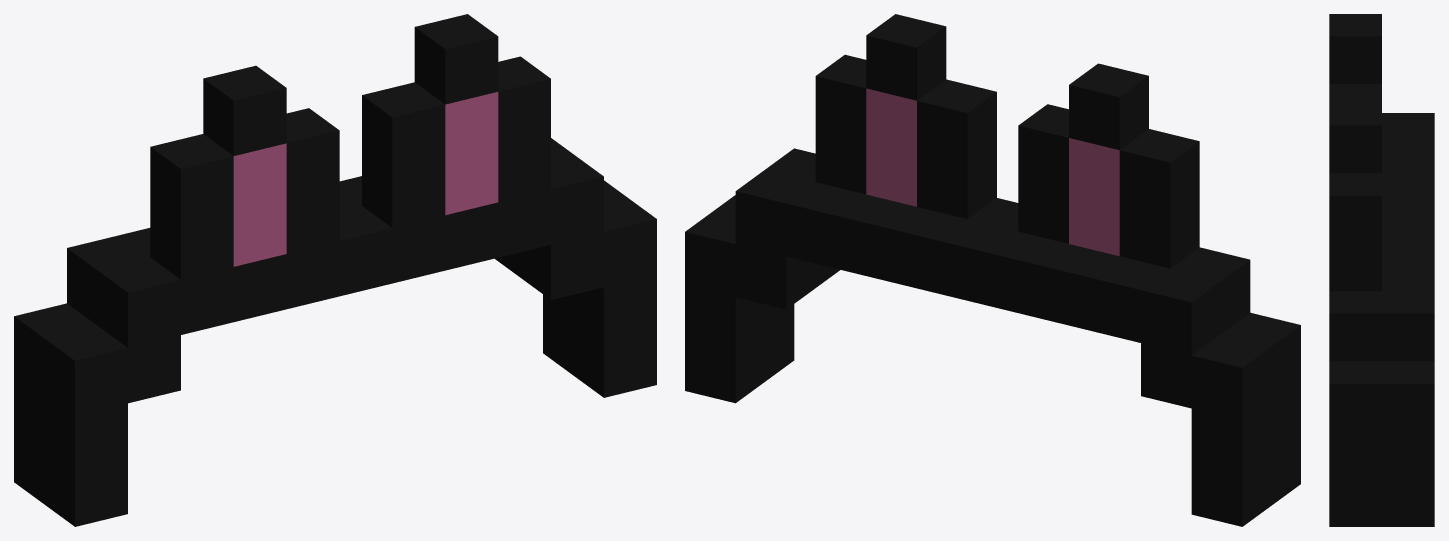
The model's file is Ears.fbx.
The picture shows the model from 3 angles, left to right: view 1: azimuth 30°, elevation 25°; view 2: azimuth 150°, elevation 25°; view 3: azimuth 270°, elevation 25°; orthographic projection. The views are drawn at different scales.
Parts seen in each view (by area): view 1: Yeti_Ears; view 2: Yeti_Ears; view 3: Yeti_Ears.
Part boxes in pixels (x1,y1,x2,y2): Yeti_Ears: [14, 14, 656, 526]; Yeti_Ears: [685, 14, 1300, 526]; Yeti_Ears: [1329, 14, 1434, 526].
Size of the model in its own units: 110 by 70 by 20.
